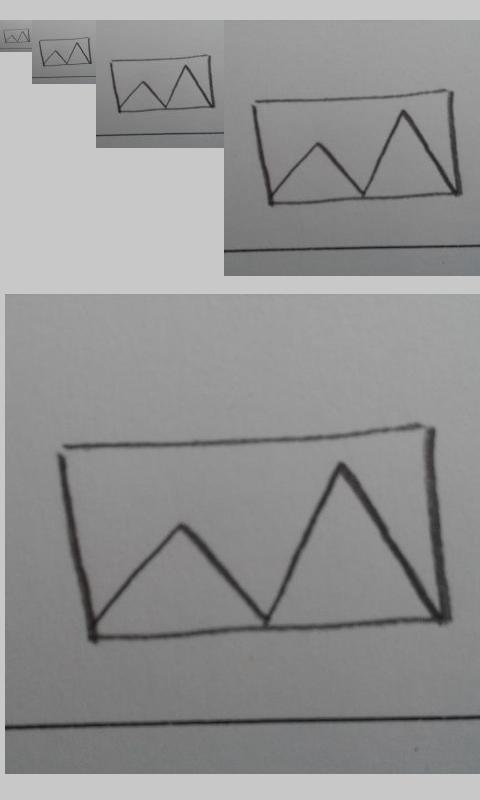image_view: (57, 424, 450, 644), (252, 87, 464, 207), (110, 54, 214, 114), (38, 37, 92, 67), (3, 28, 30, 44)
